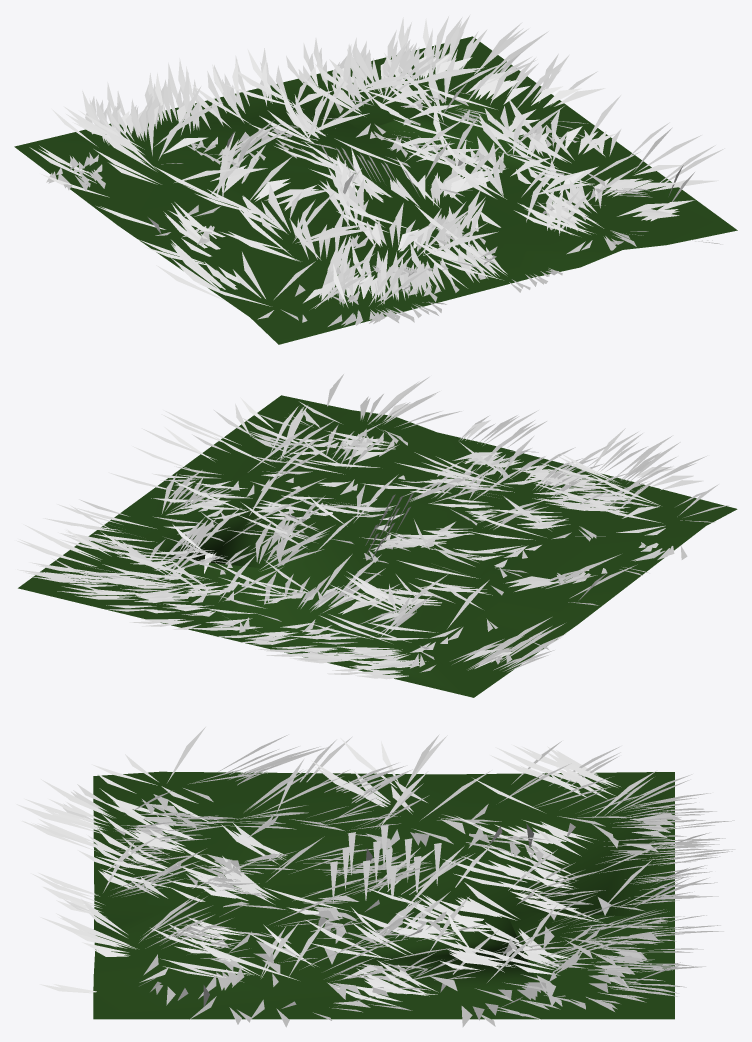
The model's file is grass-2.fbx.
The picture shows the model from 3 angles, top to bottom: view 1: azimuth 30°, elevation 25°; view 2: azimuth 150°, elevation 25°; view 3: azimuth 270°, elevation 25°; orthographic projection. The views are drawn at different scales.
Visible parts, largest first — view 1: Foliage001_1K_Color.021; view 2: Foliage001_1K_Color.021; view 3: Foliage001_1K_Color.021.
Part boxes in pixels (left/top/right/bottom): Foliage001_1K_Color.021: left=14, top=14, right=737, bottom=344; Foliage001_1K_Color.021: left=16, top=374, right=737, bottom=697; Foliage001_1K_Color.021: left=16, top=727, right=735, bottom=1027.
Bounding box in the file's own units: 1191 × 115 × 1244.
